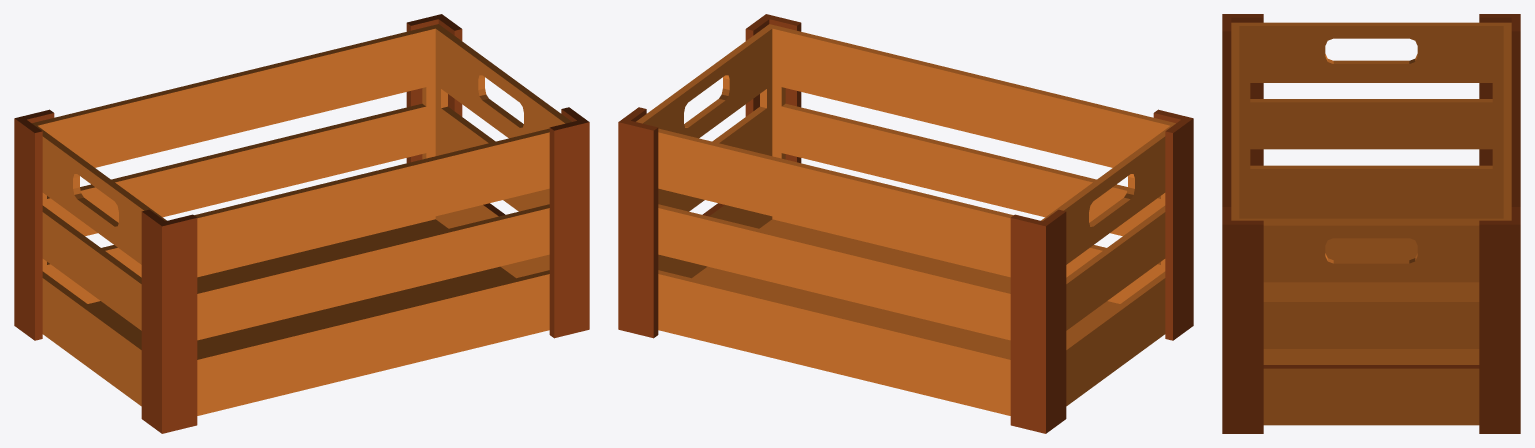
Rendered from Wooden Container 1.fbx.
3 views of the same model, side by side, from view 1: azimuth 30°, elevation 25°; view 2: azimuth 150°, elevation 25°; view 3: azimuth 270°, elevation 25° (orthographic).
Parts seen in each view (by area): view 1: Node 0; view 2: Node 0; view 3: Node 0.
Part boxes in pixels (x1,y1,x2,y2): Node 0: (14, 14, 589, 433); Node 0: (618, 14, 1193, 433); Node 0: (1222, 14, 1520, 433).
Size of the model in its own units: 0.3098 by 0.2402 by 0.5175.
